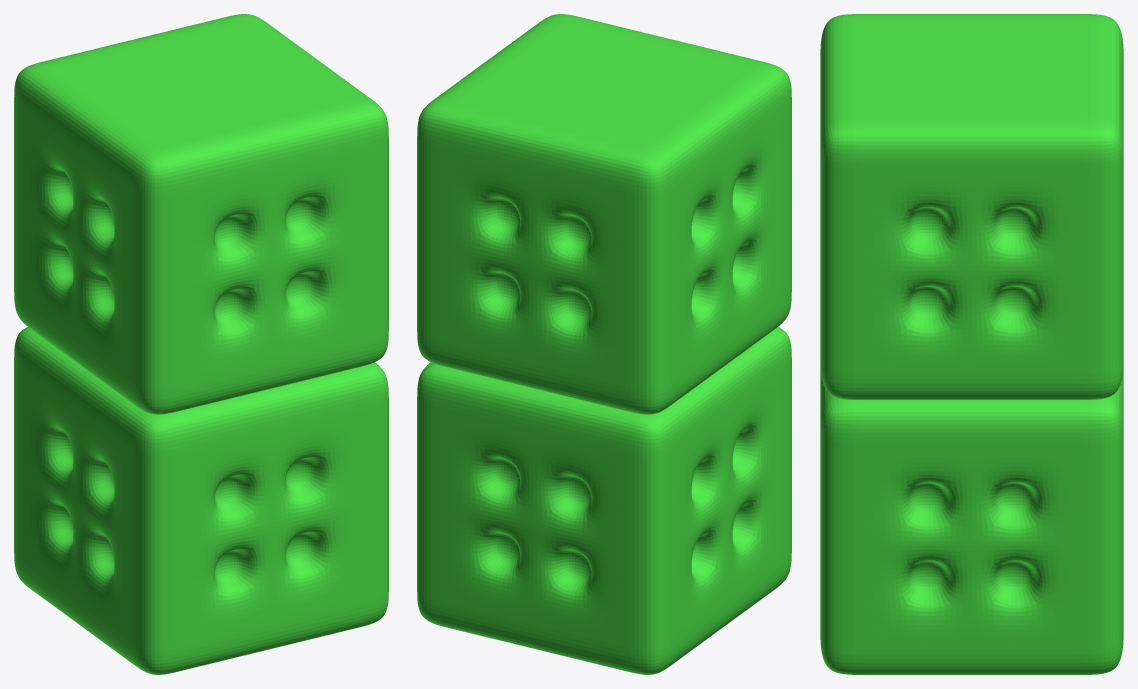
Rendered from green_1.2.1.fbx.
The picture shows the model from 3 angles, left to right: view 1: azimuth 30°, elevation 25°; view 2: azimuth 150°, elevation 25°; view 3: azimuth 270°, elevation 25°; orthographic projection. The views are drawn at different scales.
Parts seen in each view (by area): view 1: Cube.001; view 2: Cube.001; view 3: Cube.001.
Boxes of the visible parts, x1=… form: Cube.001: x1=14, y1=14, x2=388, y2=674; Cube.001: x1=417, y1=14, x2=791, y2=674; Cube.001: x1=820, y1=14, x2=1123, y2=674.
Bounding box in the file's own units: 100 × 200 × 100.
